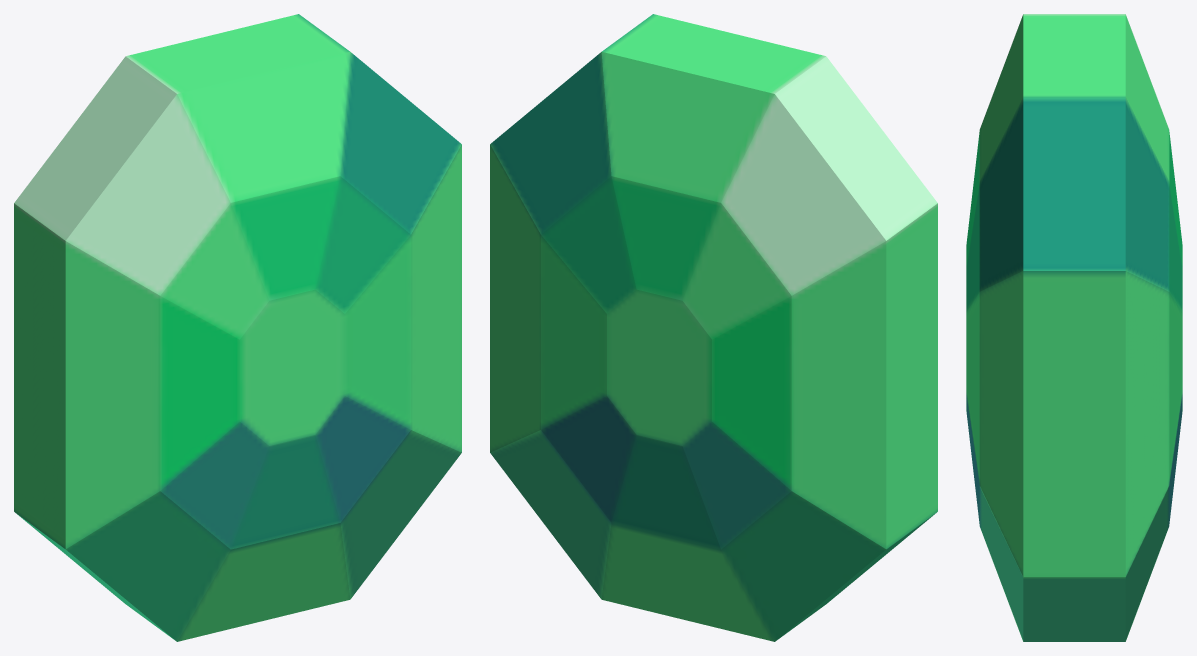
File: defen.FBX
The picture shows the model from 3 angles, left to right: view 1: azimuth 30°, elevation 25°; view 2: azimuth 150°, elevation 25°; view 3: azimuth 270°, elevation 25°; orthographic projection.
Parts seen in each view (by area): view 1: defen; view 2: defen; view 3: defen.
Part boxes in pixels (<box>): defen: <box>14,14,461,641</box>; defen: <box>490,14,937,641</box>; defen: <box>966,14,1182,641</box>.
Bounding box in the file's own units: 57.78 × 76.33 × 27.48.
